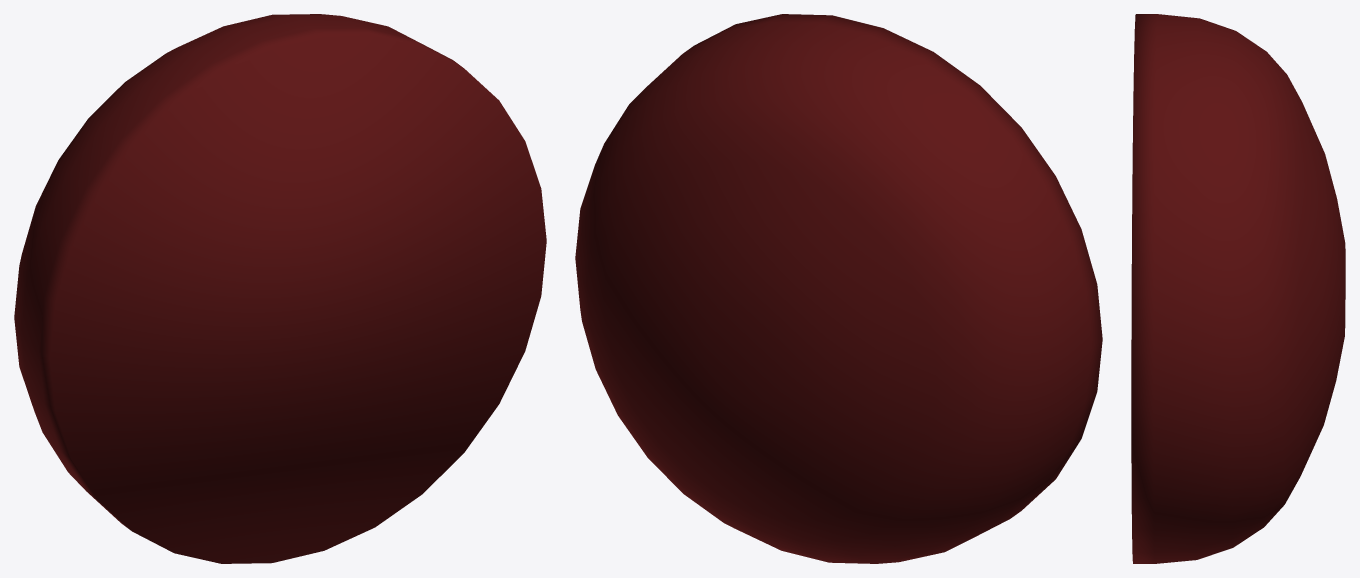
Rendered from redled.glb.
3 views of the same model, side by side, from view 1: azimuth 30°, elevation 25°; view 2: azimuth 150°, elevation 25°; view 3: azimuth 270°, elevation 25° (orthographic). The views are drawn at different scales.
Visible parts, largest first — view 1: green; view 2: green; view 3: green.
Boxes of the visible parts, x1,y1,x2,y2 form: green: (14, 14, 546, 563); green: (575, 14, 1102, 563); green: (1131, 14, 1345, 563).
Size of the model in its own units: 0.8716 by 0.8665 by 0.3381.
